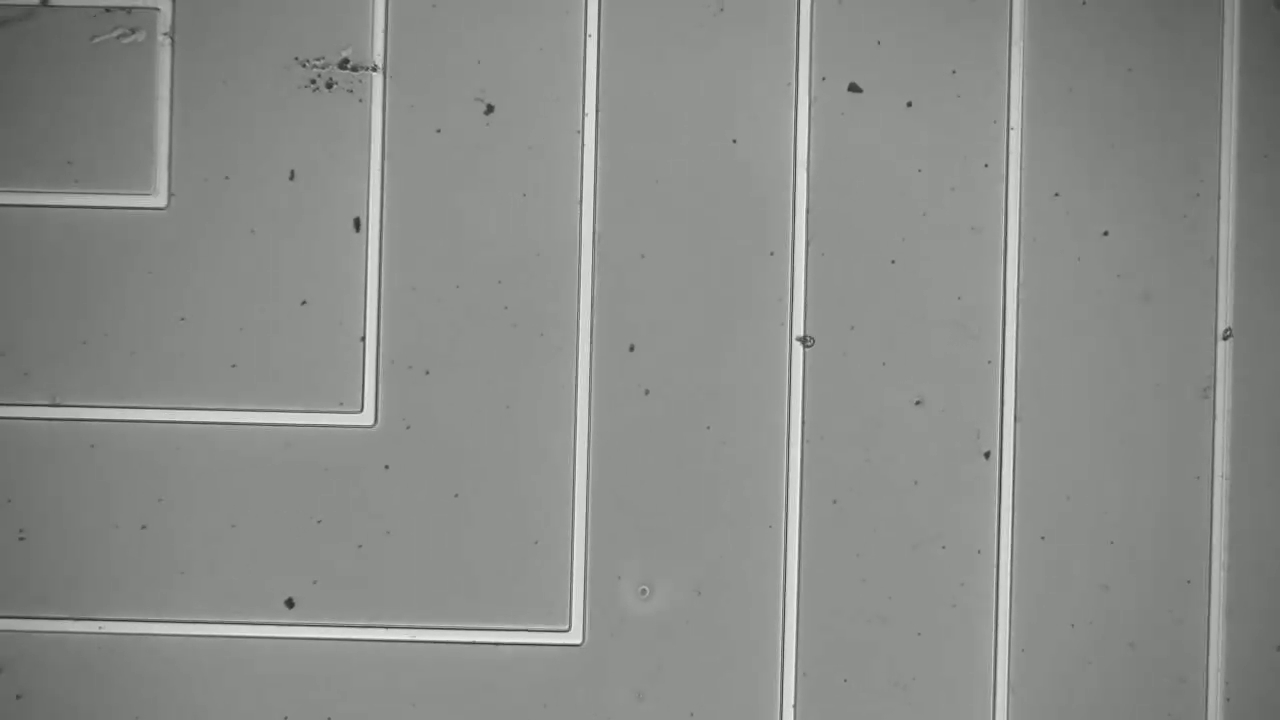stains_enbedded: (784, 324, 828, 352), (1212, 319, 1244, 348)
